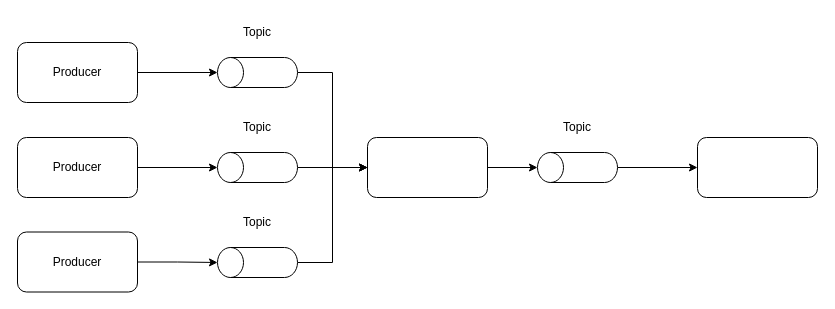
Some shapes in this 835 by 309 pixel diagram are drawn without their labels. The centre of each missing label's shape, as x and y in pixels:
Consumer: point (757, 167)
Kafka Streams Application: point (427, 167)
